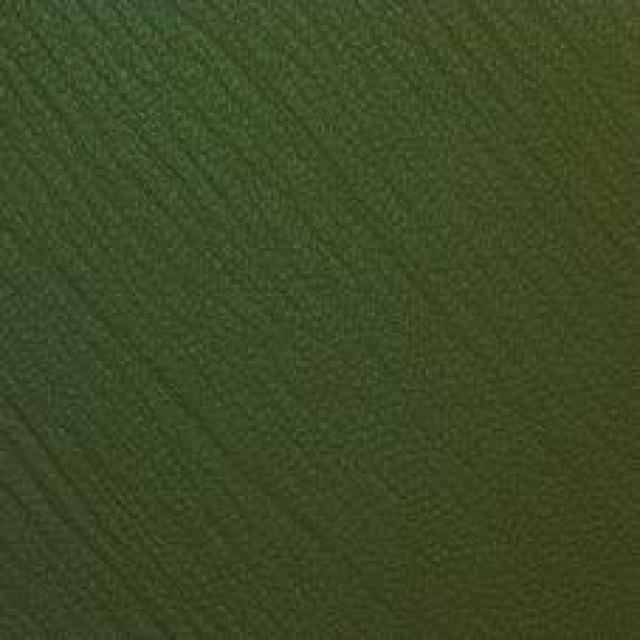Growth Marks: (56, 28, 333, 192), (42, 263, 240, 431)
